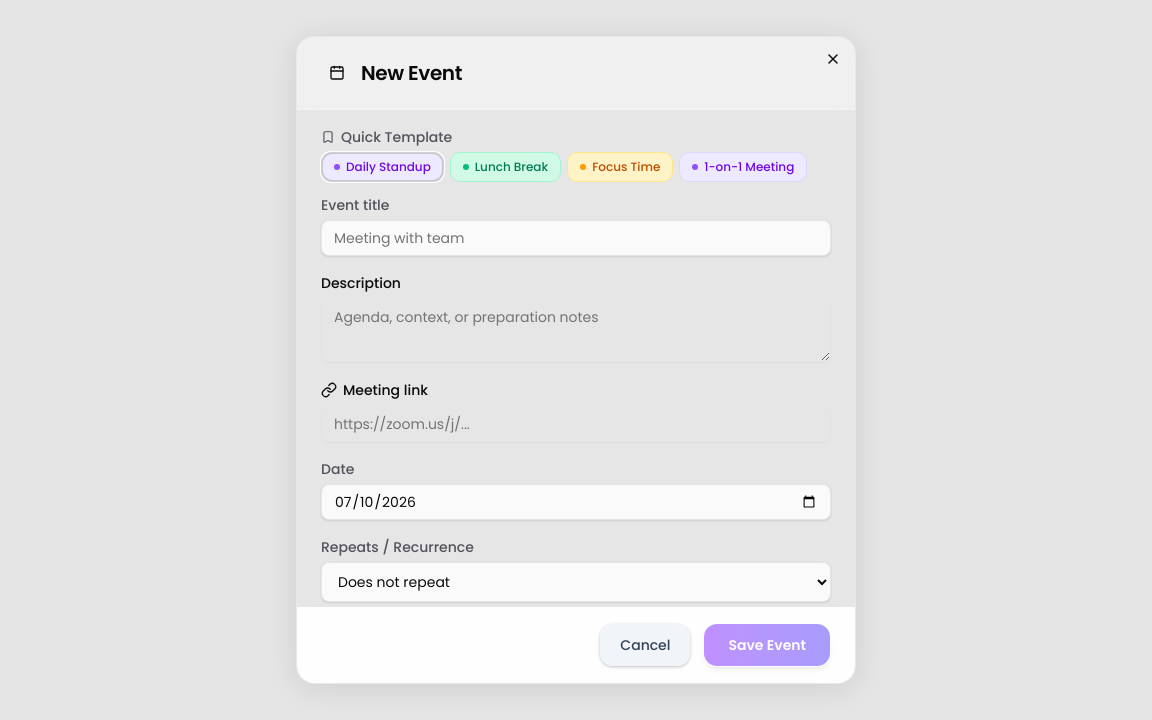
Test: EventDialog › disables save until the event title is present
Expected: the button "Save Event" is disabled, left=704, top=623, right=831, bottom=667
Step 1. Type "Planning" into the field labelled "Event title" → [576, 238], box left=321, top=220, right=831, bottom=256
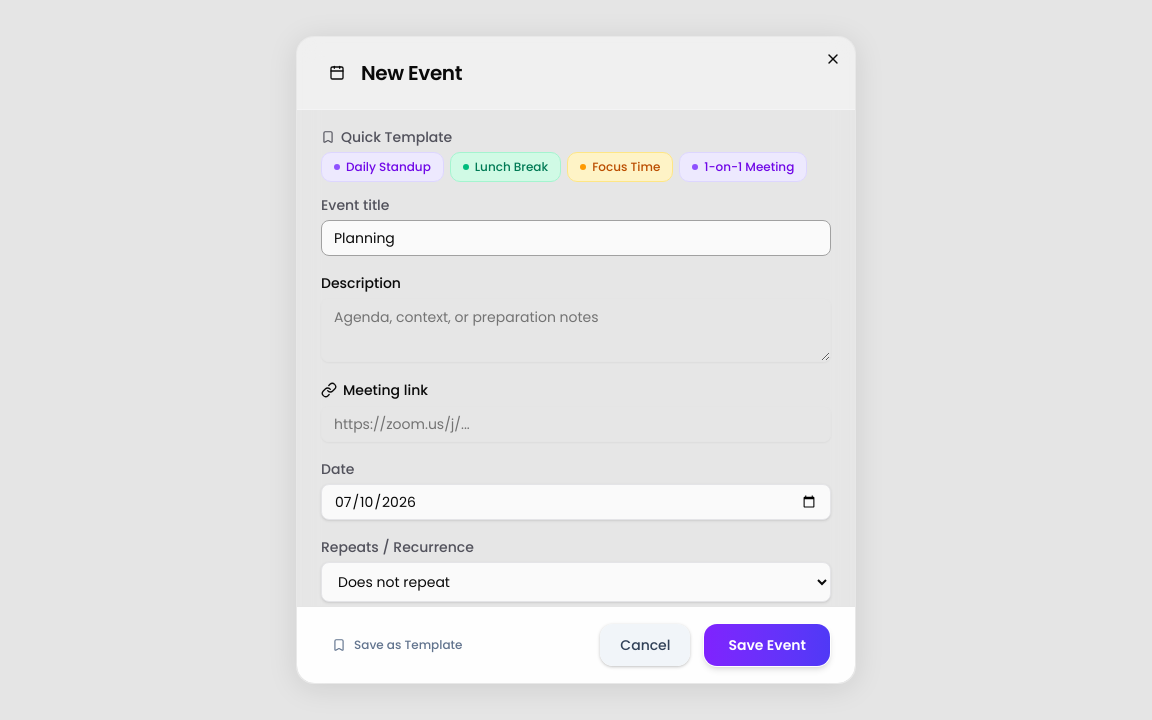
Expected: the button "Save Event" is enabled, left=704, top=623, right=831, bottom=667
Step 2. Clear the field labelled "Event title" → [576, 238], box left=321, top=220, right=831, bottom=256
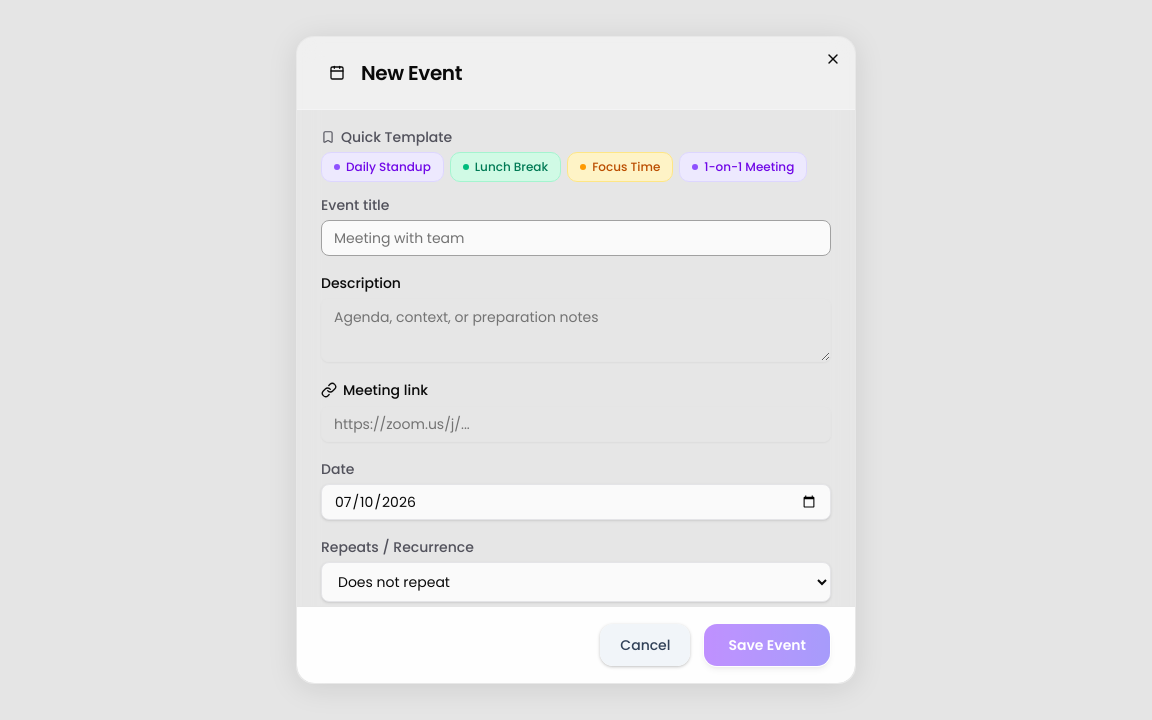
Expected: the button "Save Event" is disabled, left=704, top=623, right=831, bottom=667
